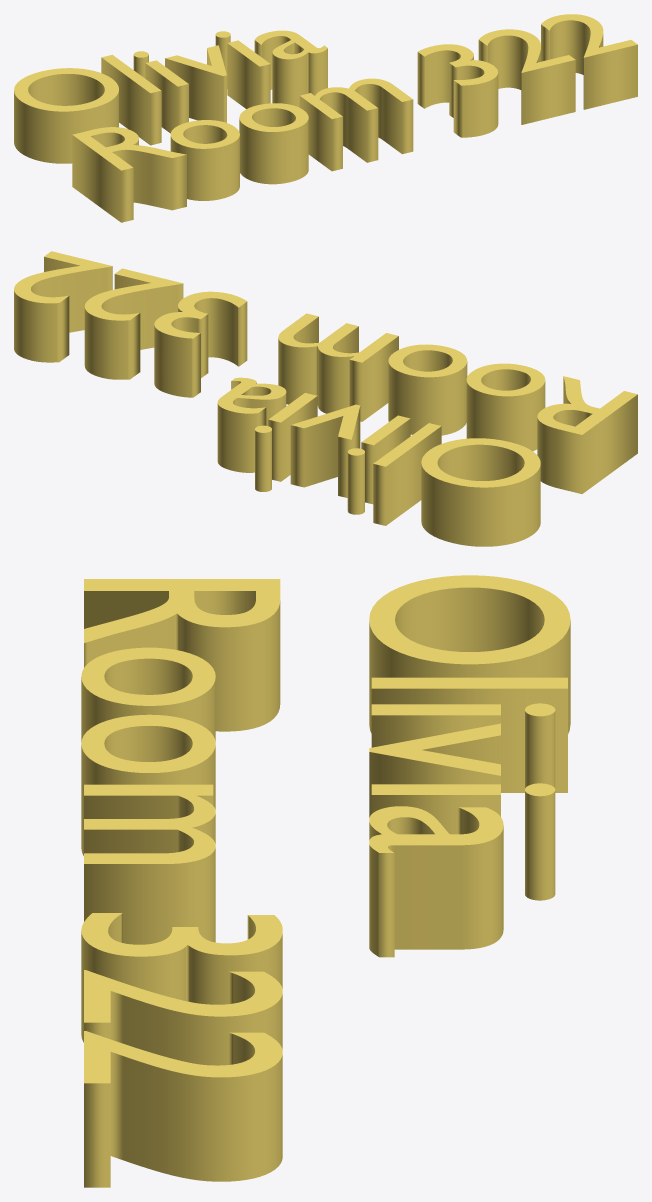
The model's file is olivia-322.gltf.
3 views of the same model, one above another, from view 1: azimuth 30°, elevation 25°; view 2: azimuth 150°, elevation 25°; view 3: azimuth 270°, elevation 25° (orthographic). The views are drawn at different scales.
Visible parts, largest first — view 1: Text; view 2: Text; view 3: Text.
Boxes of the visible parts, box(x1,y1,x2,y2) form: Text: box(14, 14, 637, 222); Text: box(14, 251, 637, 546); Text: box(81, 575, 570, 1187).
Size of the model in its own units: 4.18 by 0.4 by 1.7.
